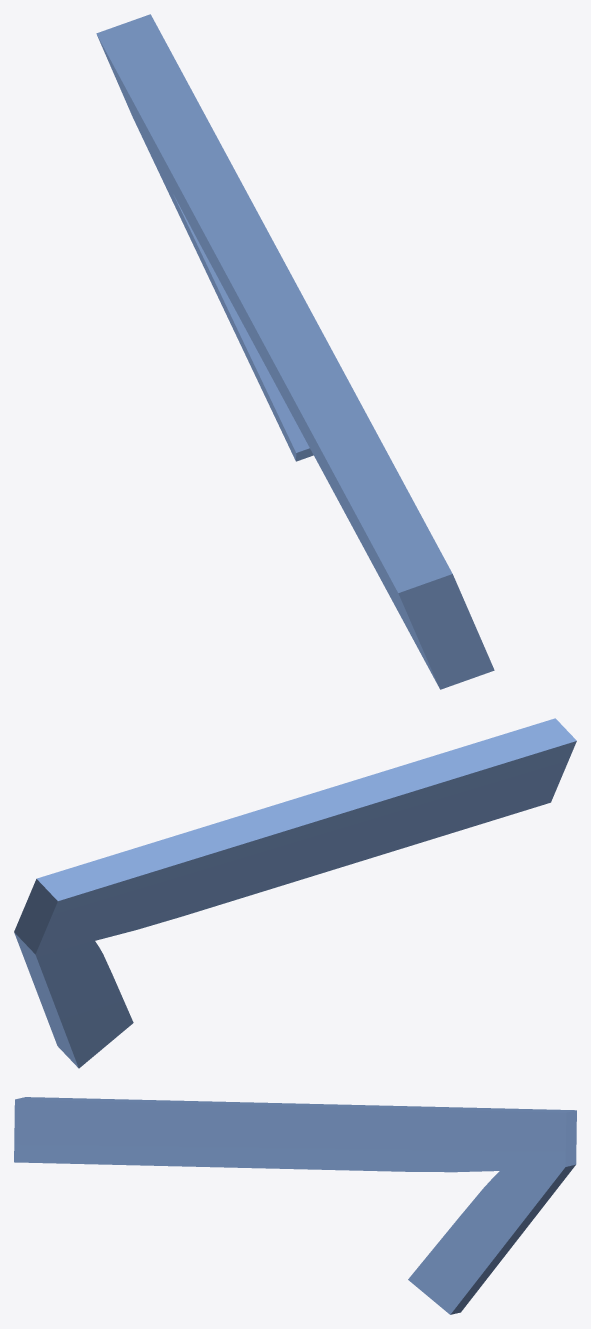
Rendered from New_Number_1.gltf.
3 views of the same model, one above another, from view 1: azimuth 30°, elevation 25°; view 2: azimuth 150°, elevation 25°; view 3: azimuth 270°, elevation 25° (orthographic). The views are drawn at different scales.
Visible parts, largest first — view 1: Part 622; view 2: Part 622; view 3: Part 622.
Boxes of the visible parts, x1,y1,x2,y2 form: Part 622: (96,14,494,689); Part 622: (14,718,576,1068); Part 622: (14,1097,576,1314).
Bounding box in the file's own units: 0.00193 × 0.00186 × 0.00498.
